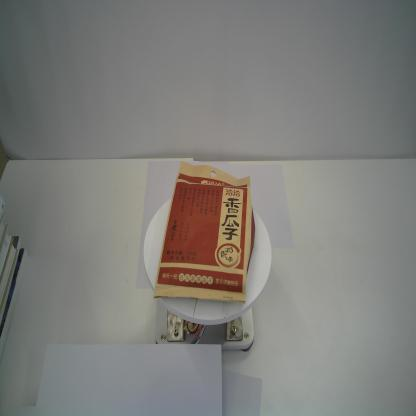Dried Food: (152, 159, 256, 306)
